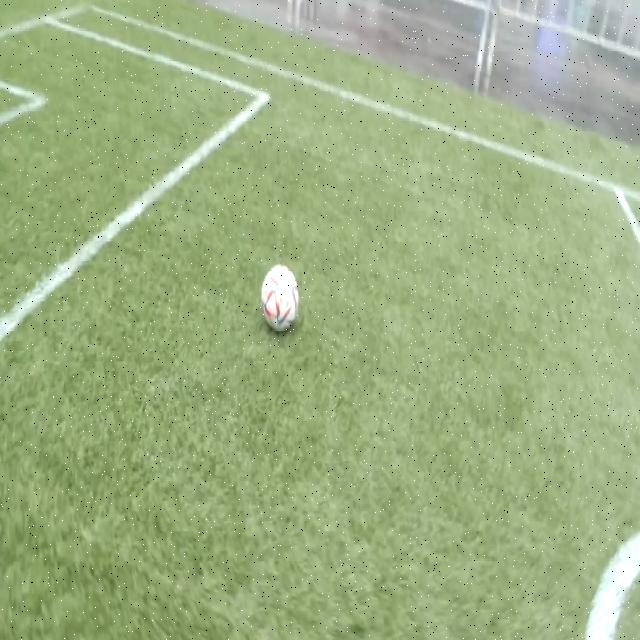ball: (262, 264, 299, 332)
